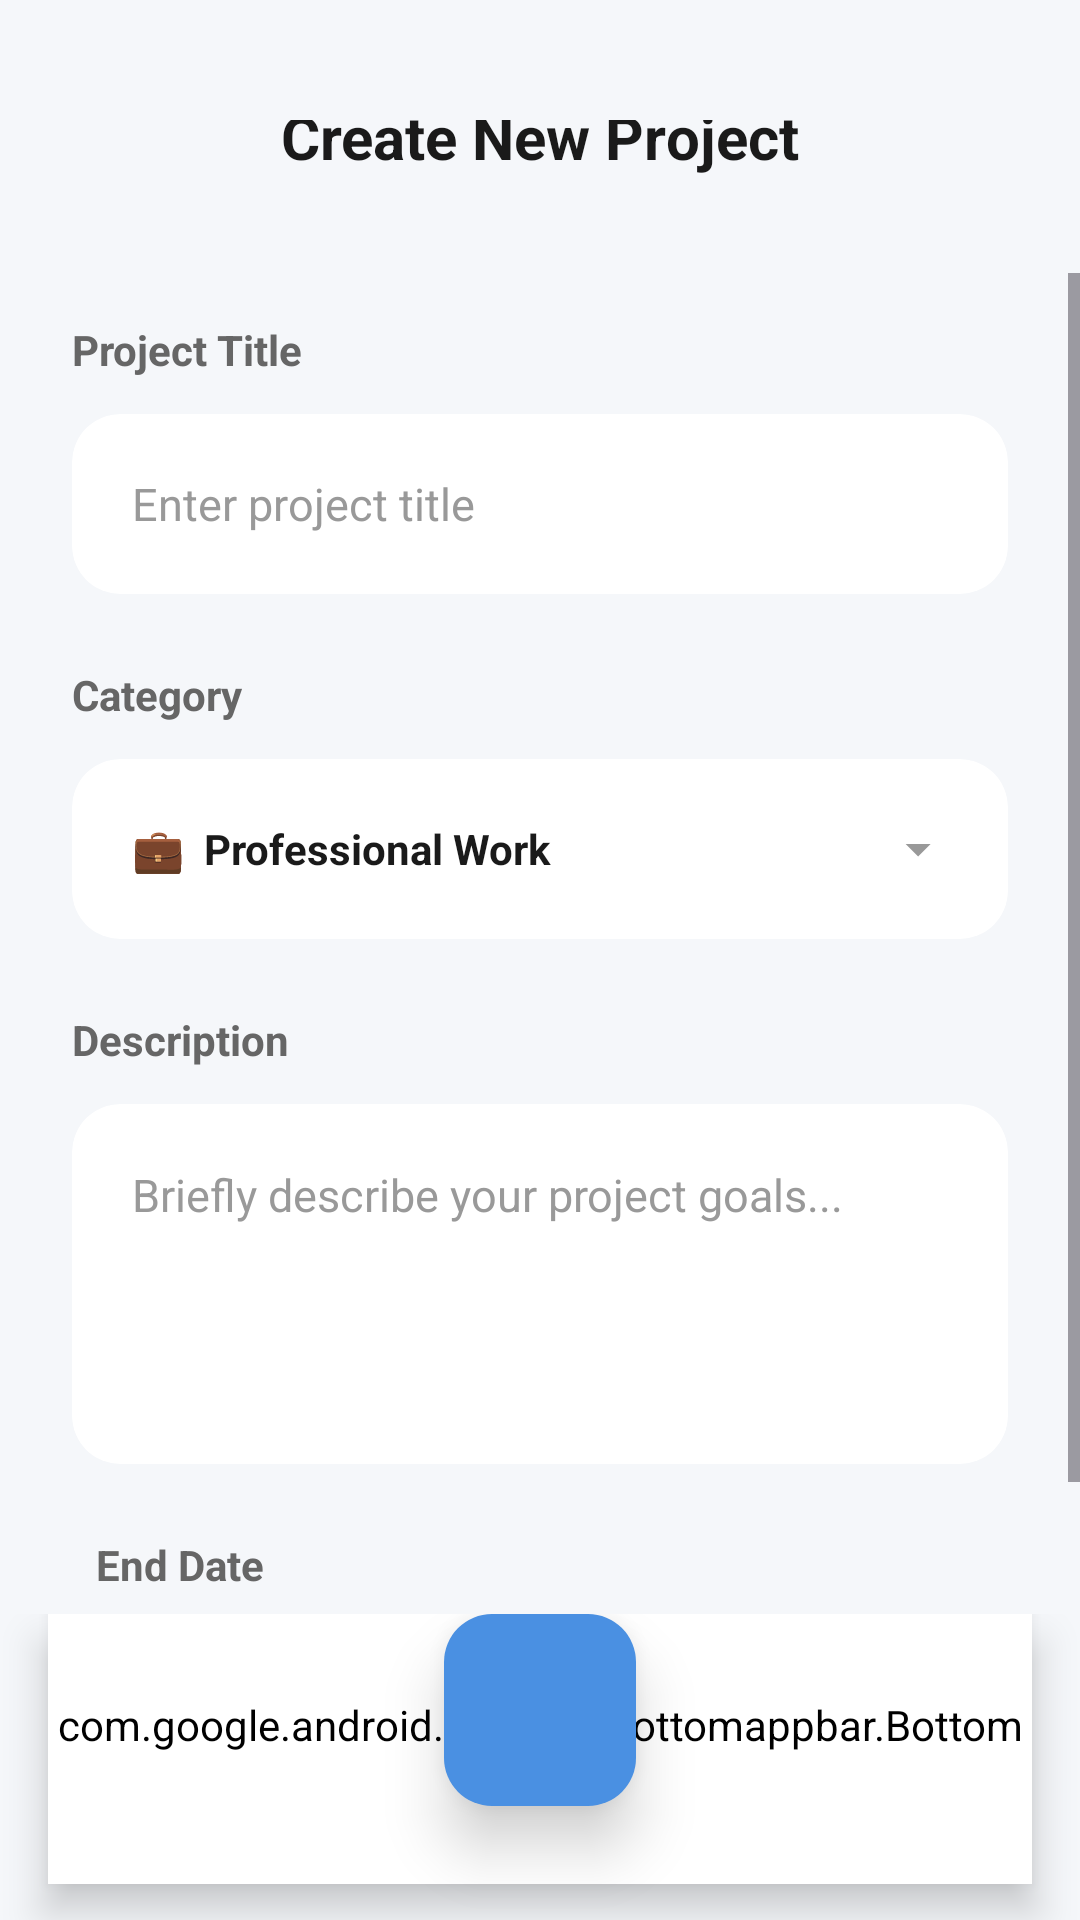

Icons on this 1080*1920 Android screen, each with the point to tap as point (x, y):
dropdown: point (918, 850)
